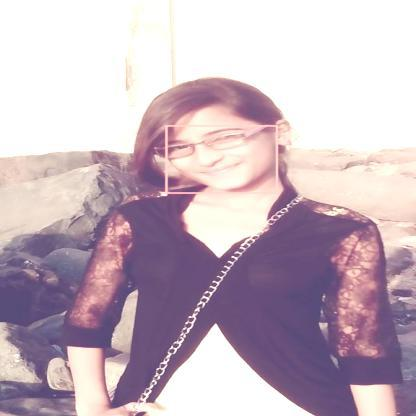without_mask: (166, 126, 277, 193)
